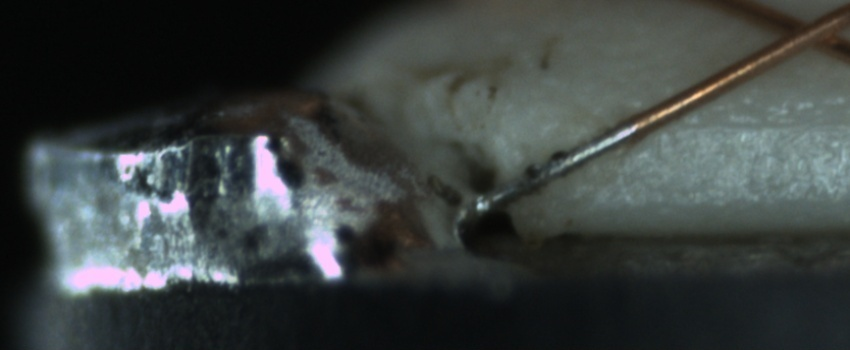CL: (755, 0, 847, 63)
DL: (675, 92, 849, 156)
TS: (473, 119, 638, 216)
